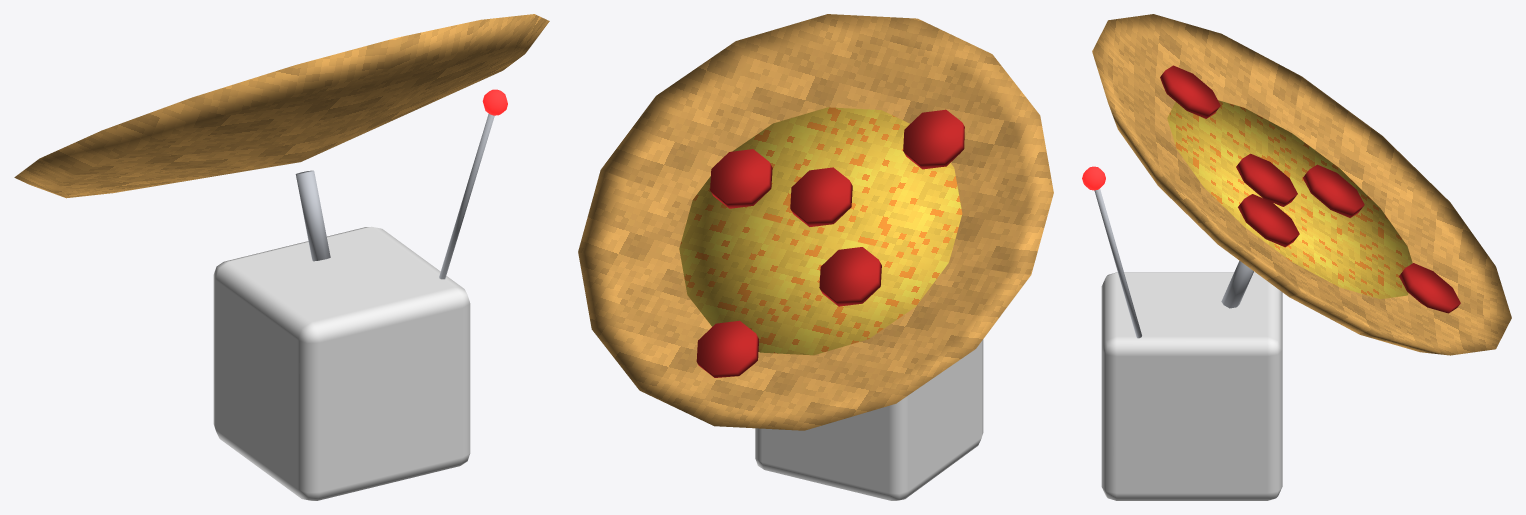
The model's file is x_sat_pizza.glb.
3 views of the same model, side by side, from view 1: azimuth 30°, elevation 25°; view 2: azimuth 150°, elevation 25°; view 3: azimuth 270°, elevation 25° (orthographic). The views are drawn at different scales.
Parts seen in each view (by area): view 1: sat; view 2: sat; view 3: sat.
Boxes of the visible parts, x1,y1,x2,y2 form: sat: [14, 14, 549, 500]; sat: [578, 14, 1053, 500]; sat: [1082, 14, 1511, 500].
Size of the model in its own units: 0.68 by 0.6105 by 0.5704.
Materials: 6 (2 with a texture image).
